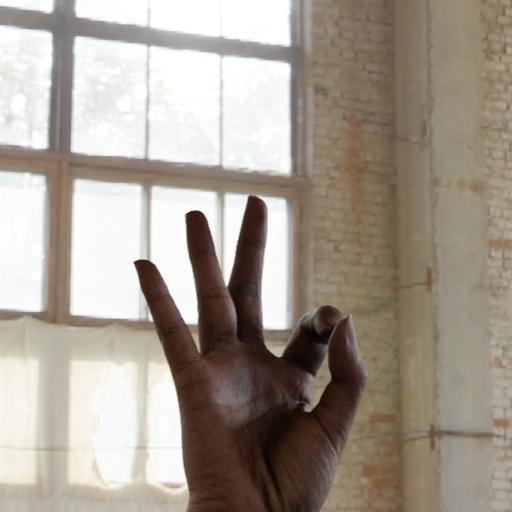F: (127, 191, 370, 512)
